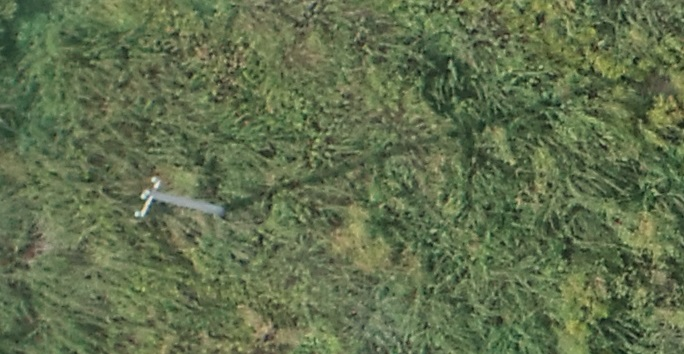opora: (132, 174, 268, 221)
